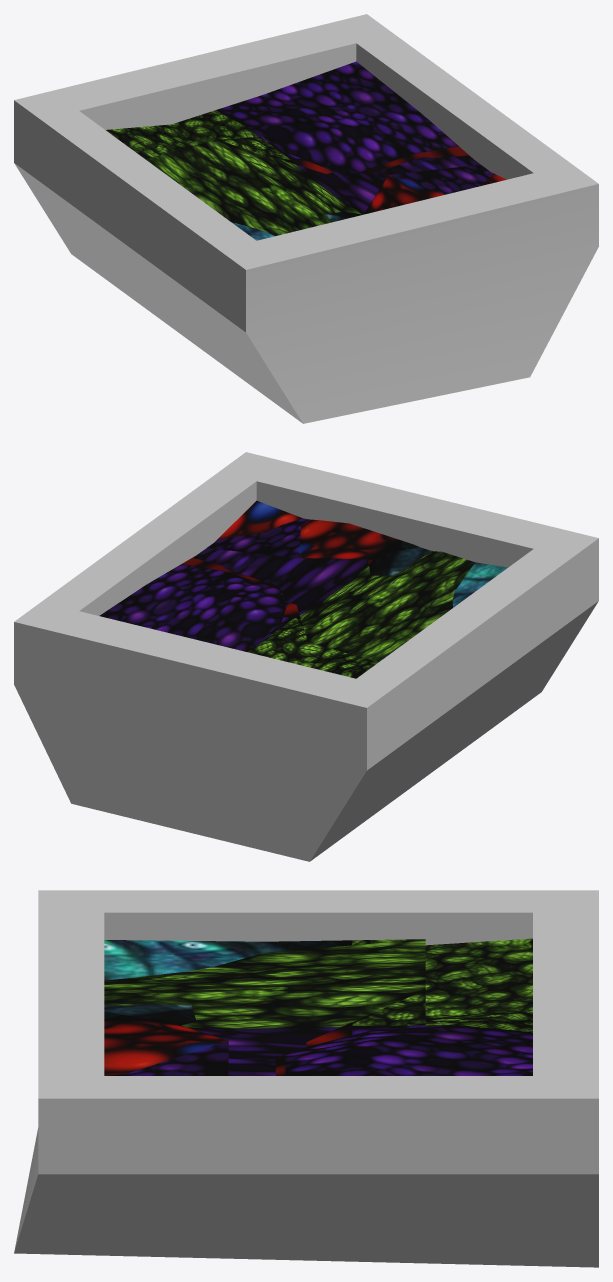
File: produceCrate.fbx
3 renders of one model, top to bottom at view 1: azimuth 30°, elevation 25°; view 2: azimuth 150°, elevation 25°; view 3: azimuth 270°, elevation 25°, orthographic. The views are drawn at different scales.
Parts seen in each view (by area): view 1: trough.001; view 2: trough.001; view 3: trough.001.
Part boxes in pixels (box(x1,y1,x2,y2)): trough.001: box(14, 14, 598, 423); trough.001: box(14, 452, 598, 861); trough.001: box(14, 890, 598, 1267).
Size of the model in its own units: 91.31 by 41.5 by 108.
